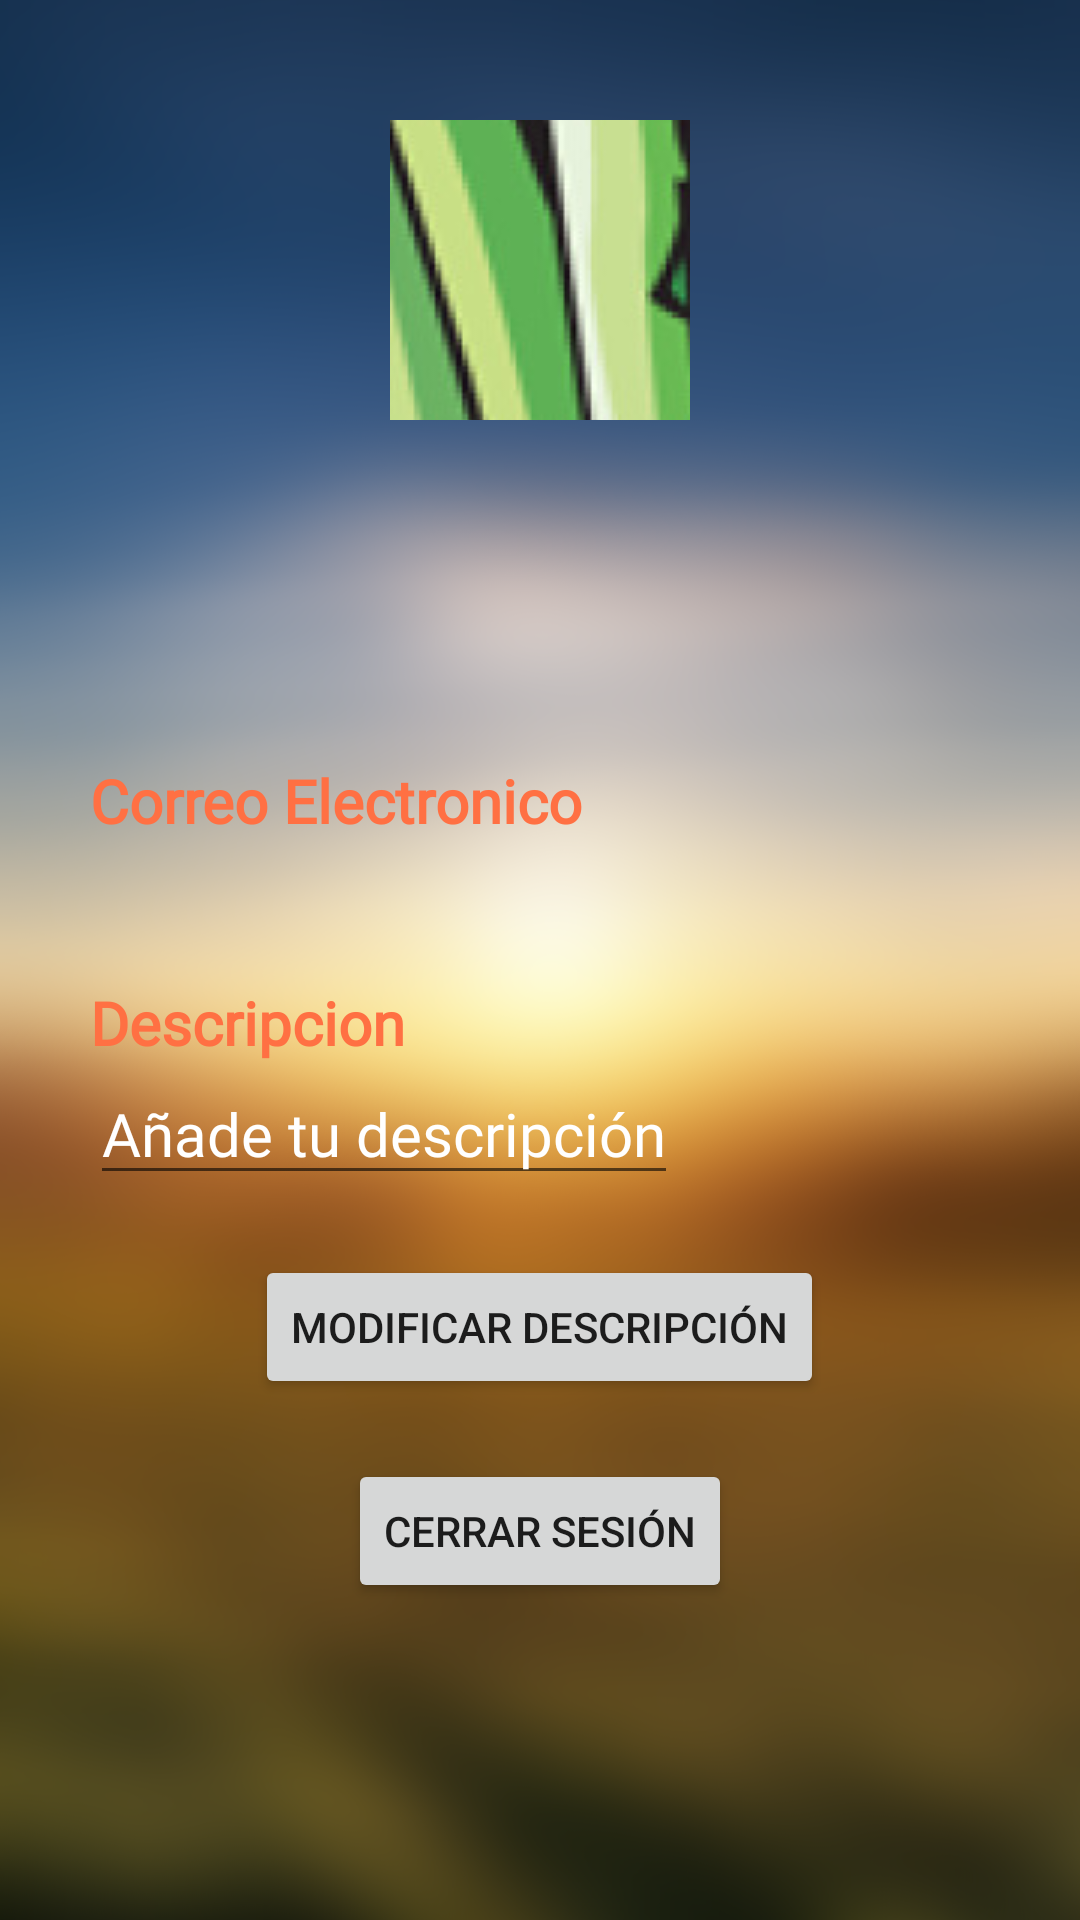

Icons on this 1080w x 1920h Android screen, each with its box as (x1, y1, x2, y2):
esparrago: (390, 120, 690, 420)
